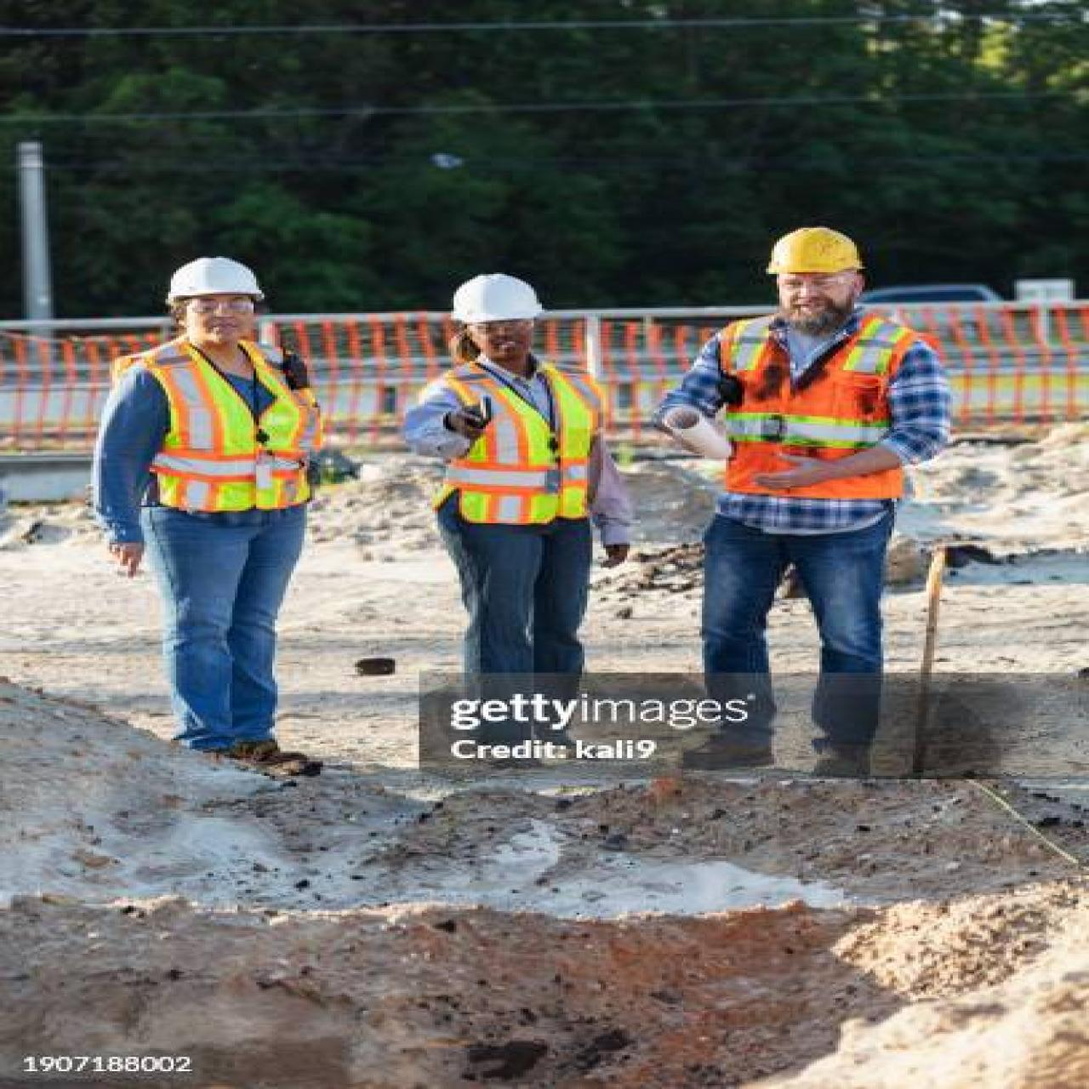Person: (652, 219, 973, 781), (64, 246, 355, 801), (401, 272, 640, 761)
Safety_Vest: (706, 314, 926, 498), (110, 330, 312, 509), (427, 364, 607, 534)
